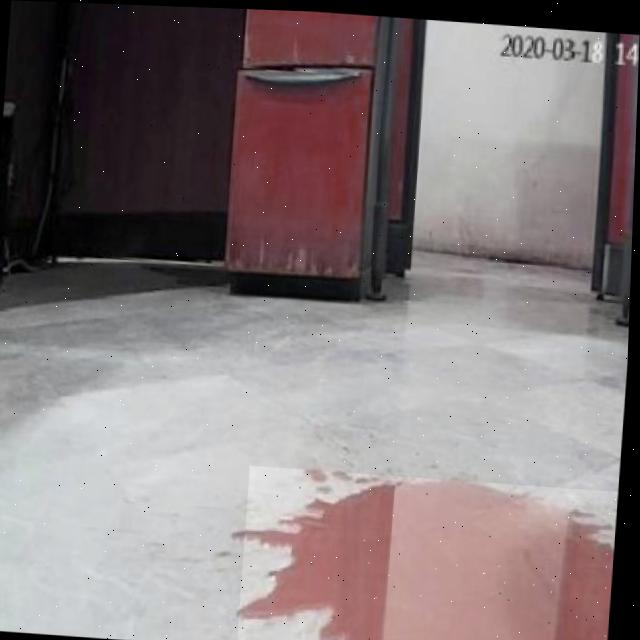spillage: (243, 476, 617, 640)
